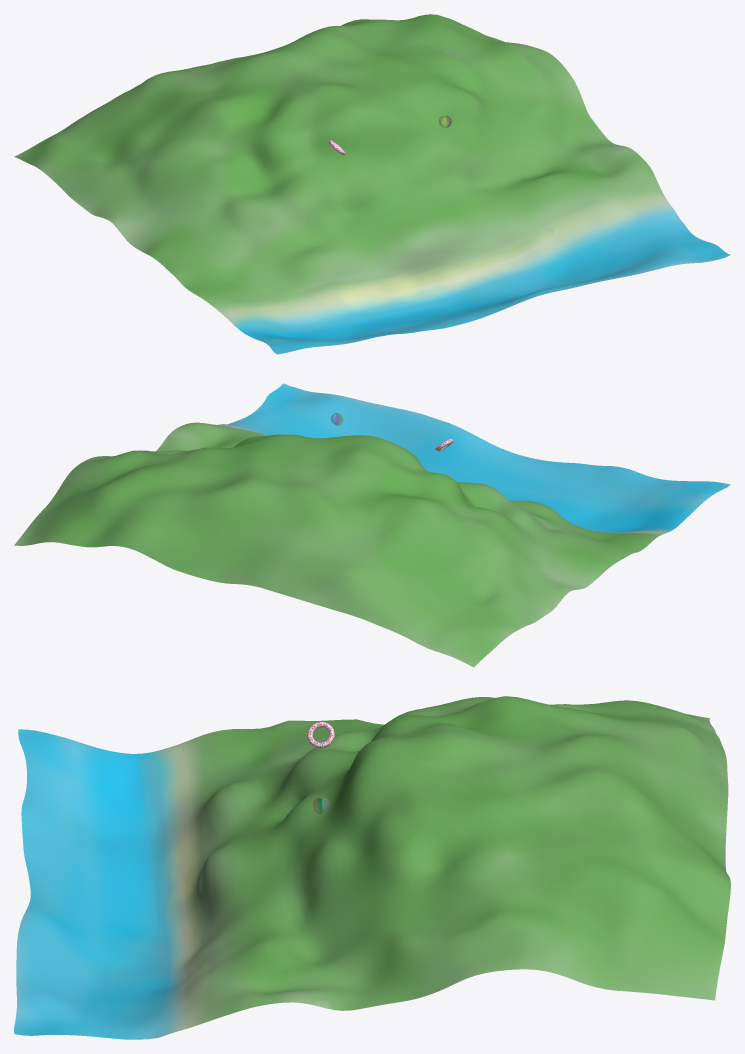
File: beach.glb
3 views of the same model, one above another, from view 1: azimuth 30°, elevation 25°; view 2: azimuth 150°, elevation 25°; view 3: azimuth 270°, elevation 25° (orthographic). The views are drawn at different scales.
Visible parts, largest first — view 1: Beach; view 2: Beach; view 3: Beach.
Part boxes in pixels (left/top/right/bottom): Beach: left=14, top=14, right=730, bottom=354; Beach: left=14, top=383, right=730, bottom=667; Beach: left=14, top=696, right=730, bottom=1039.
Size of the model in its own units: 65.44 by 18.27 by 64.91.
Materials: 4 (3 with a texture image).
